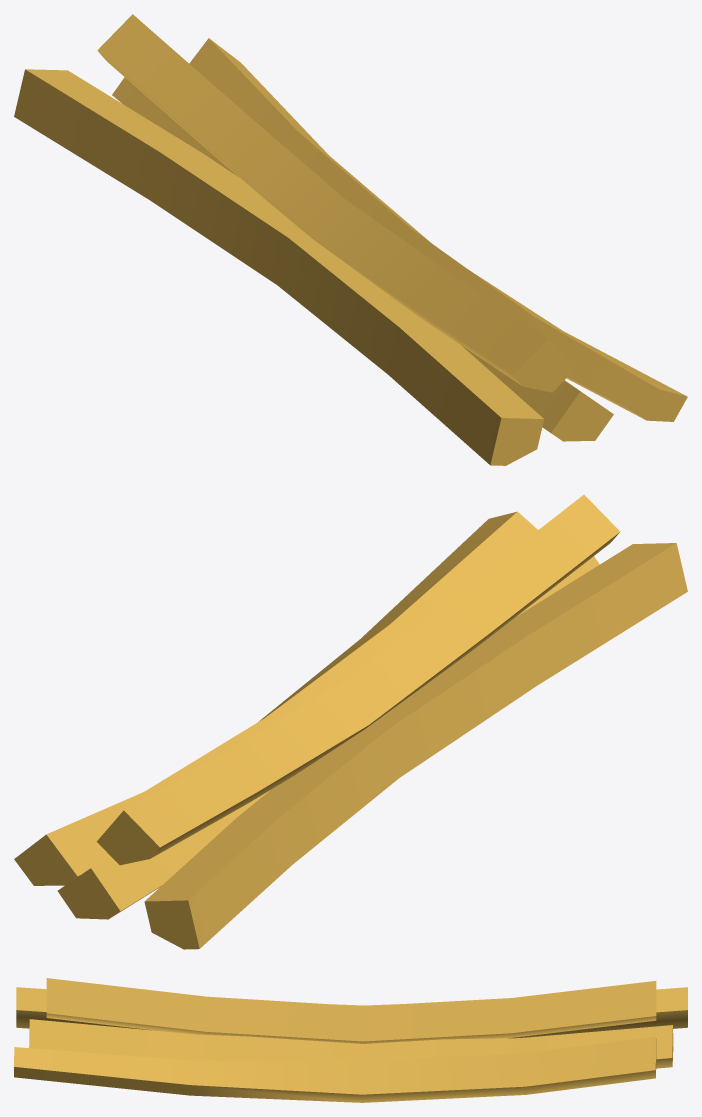
Rendered from Danmuji_1.fbx.
The picture shows the model from 3 angles, top to bottom: view 1: azimuth 30°, elevation 25°; view 2: azimuth 150°, elevation 25°; view 3: azimuth 270°, elevation 25°; orthographic projection. The views are drawn at different scales.
Visible parts, largest first — view 1: Danmuji; view 2: Danmuji; view 3: Danmuji.
Part boxes in pixels (x1=…): Danmuji: x1=14, y1=14, x2=687, y2=465; Danmuji: x1=14, y1=494, x2=687, y2=949; Danmuji: x1=14, y1=978, x2=687, y2=1102.
Size of the model in its own units: 5.13 by 3.2 by 20.83.
